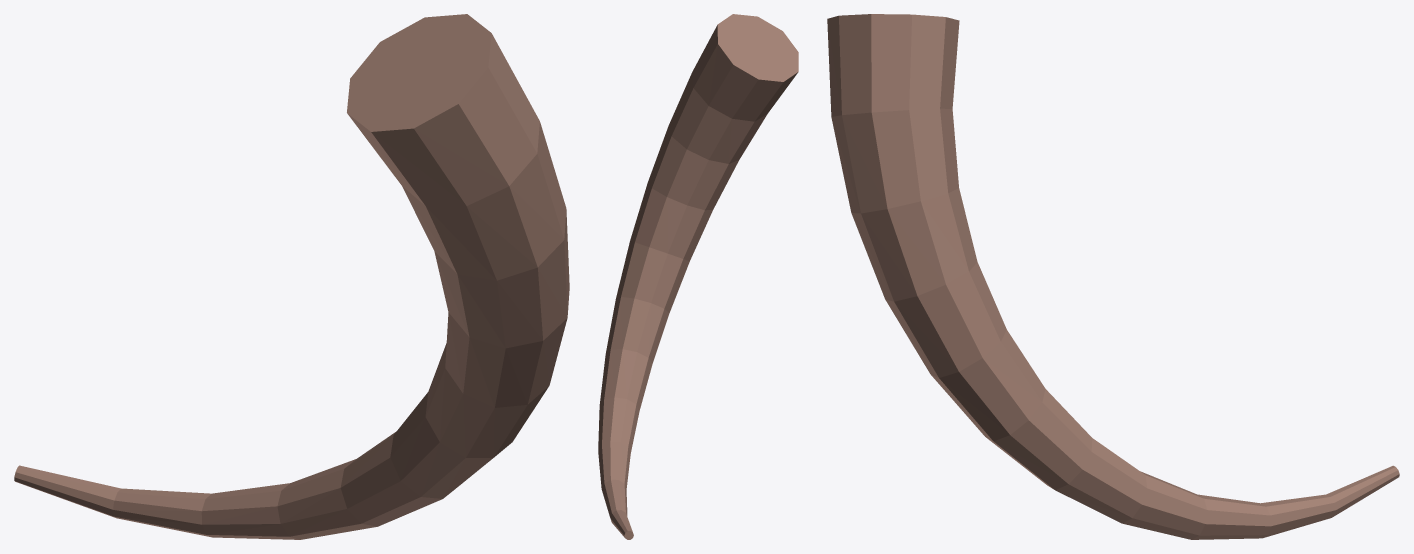
The model's file is gazer_lower_r_original_01.glb.
3 renders of one model, left to right at view 1: azimuth 30°, elevation 25°; view 2: azimuth 150°, elevation 25°; view 3: azimuth 270°, elevation 25°, orthographic. The views are drawn at different scales.
Parts seen in each view (by area): view 1: G0_LowerR; view 2: G0_LowerR; view 3: G0_LowerR.
Part boxes in pixels (x1=…): G0_LowerR: x1=14, y1=14, x2=569, y2=539; G0_LowerR: x1=598, y1=14, x2=798, y2=539; G0_LowerR: x1=827, y1=14, x2=1399, y2=539.
Bounding box in the file's own units: 0.2148 × 0.5185 × 0.5018.
